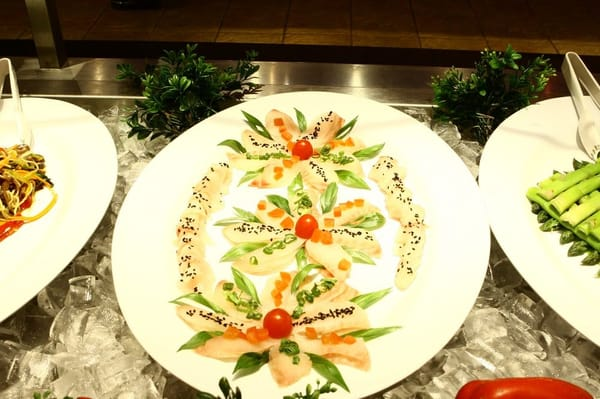curry: (428, 46, 559, 149)
